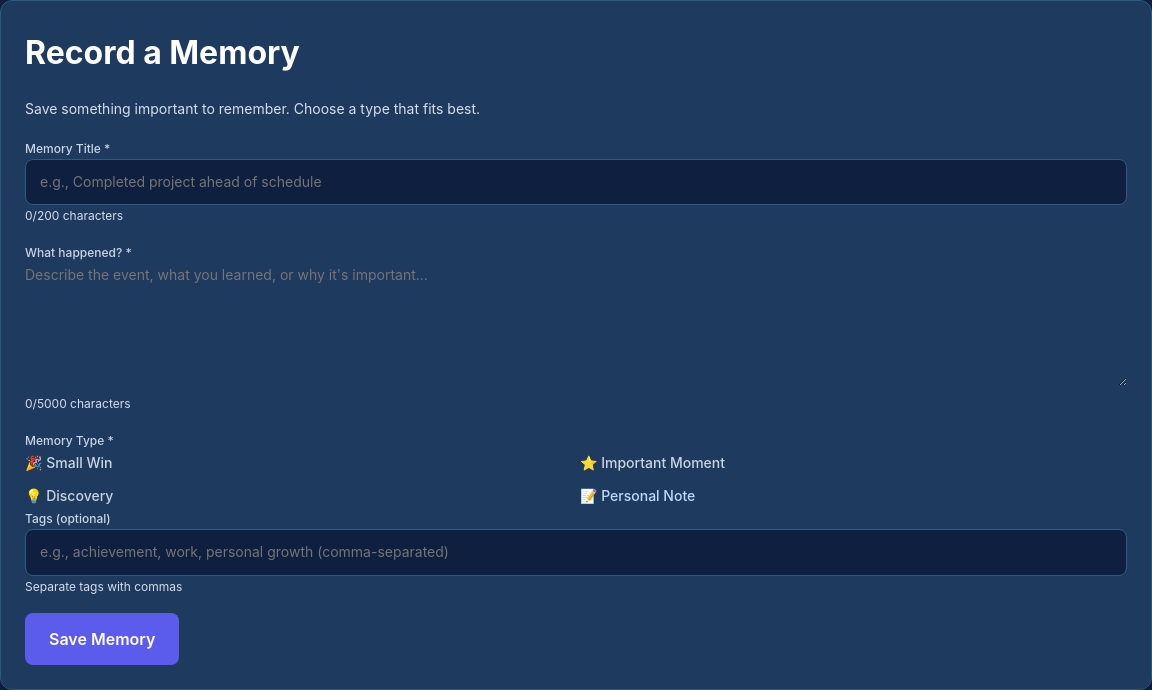
it: MemoryRecorder Integration Tests › Master Direction Compliance: User Control › should require user input - no auto-generated memories
The image size is (1152, 690).
// Try to submit empty form
Click the button "Save Memory": {"x": 102, "y": 638} [25, 612, 179, 664]
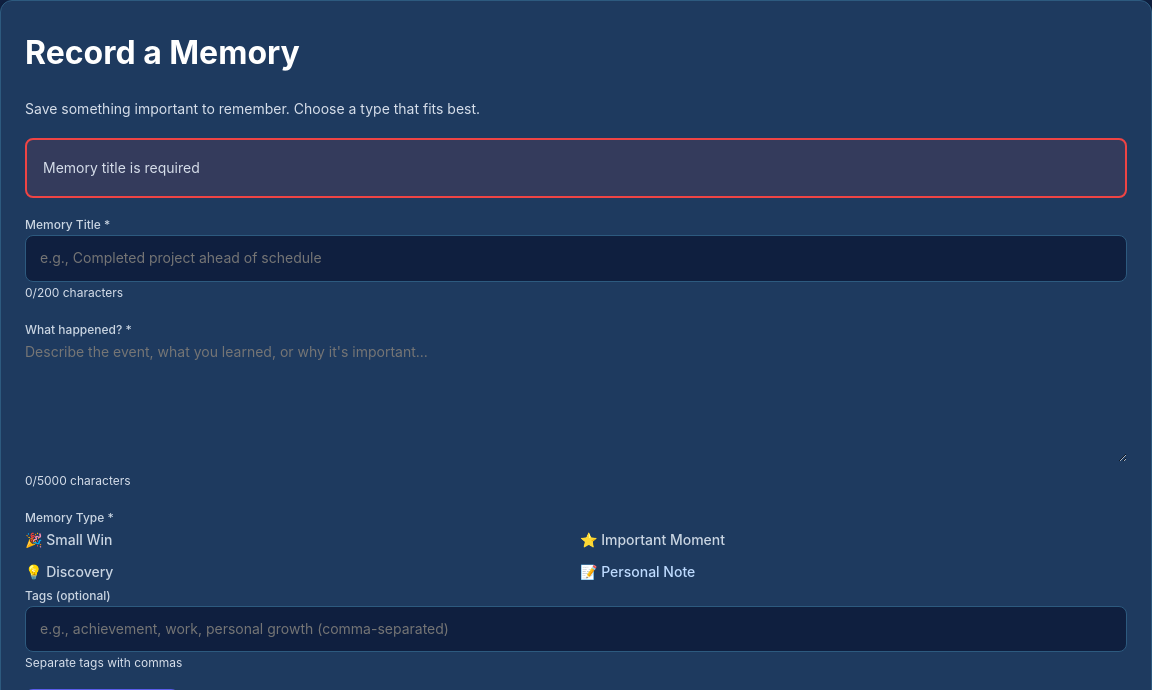
Now the text "Memory title is required" is shown, box [43, 158, 200, 176]
